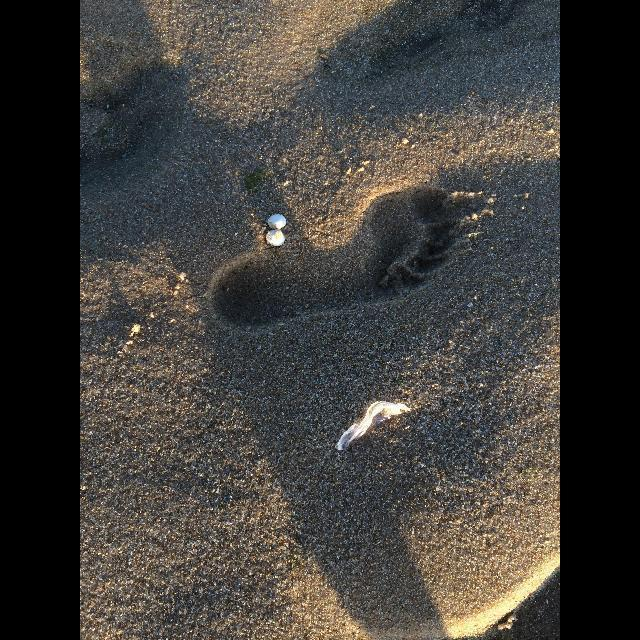Plastic: (337, 402, 411, 451)
